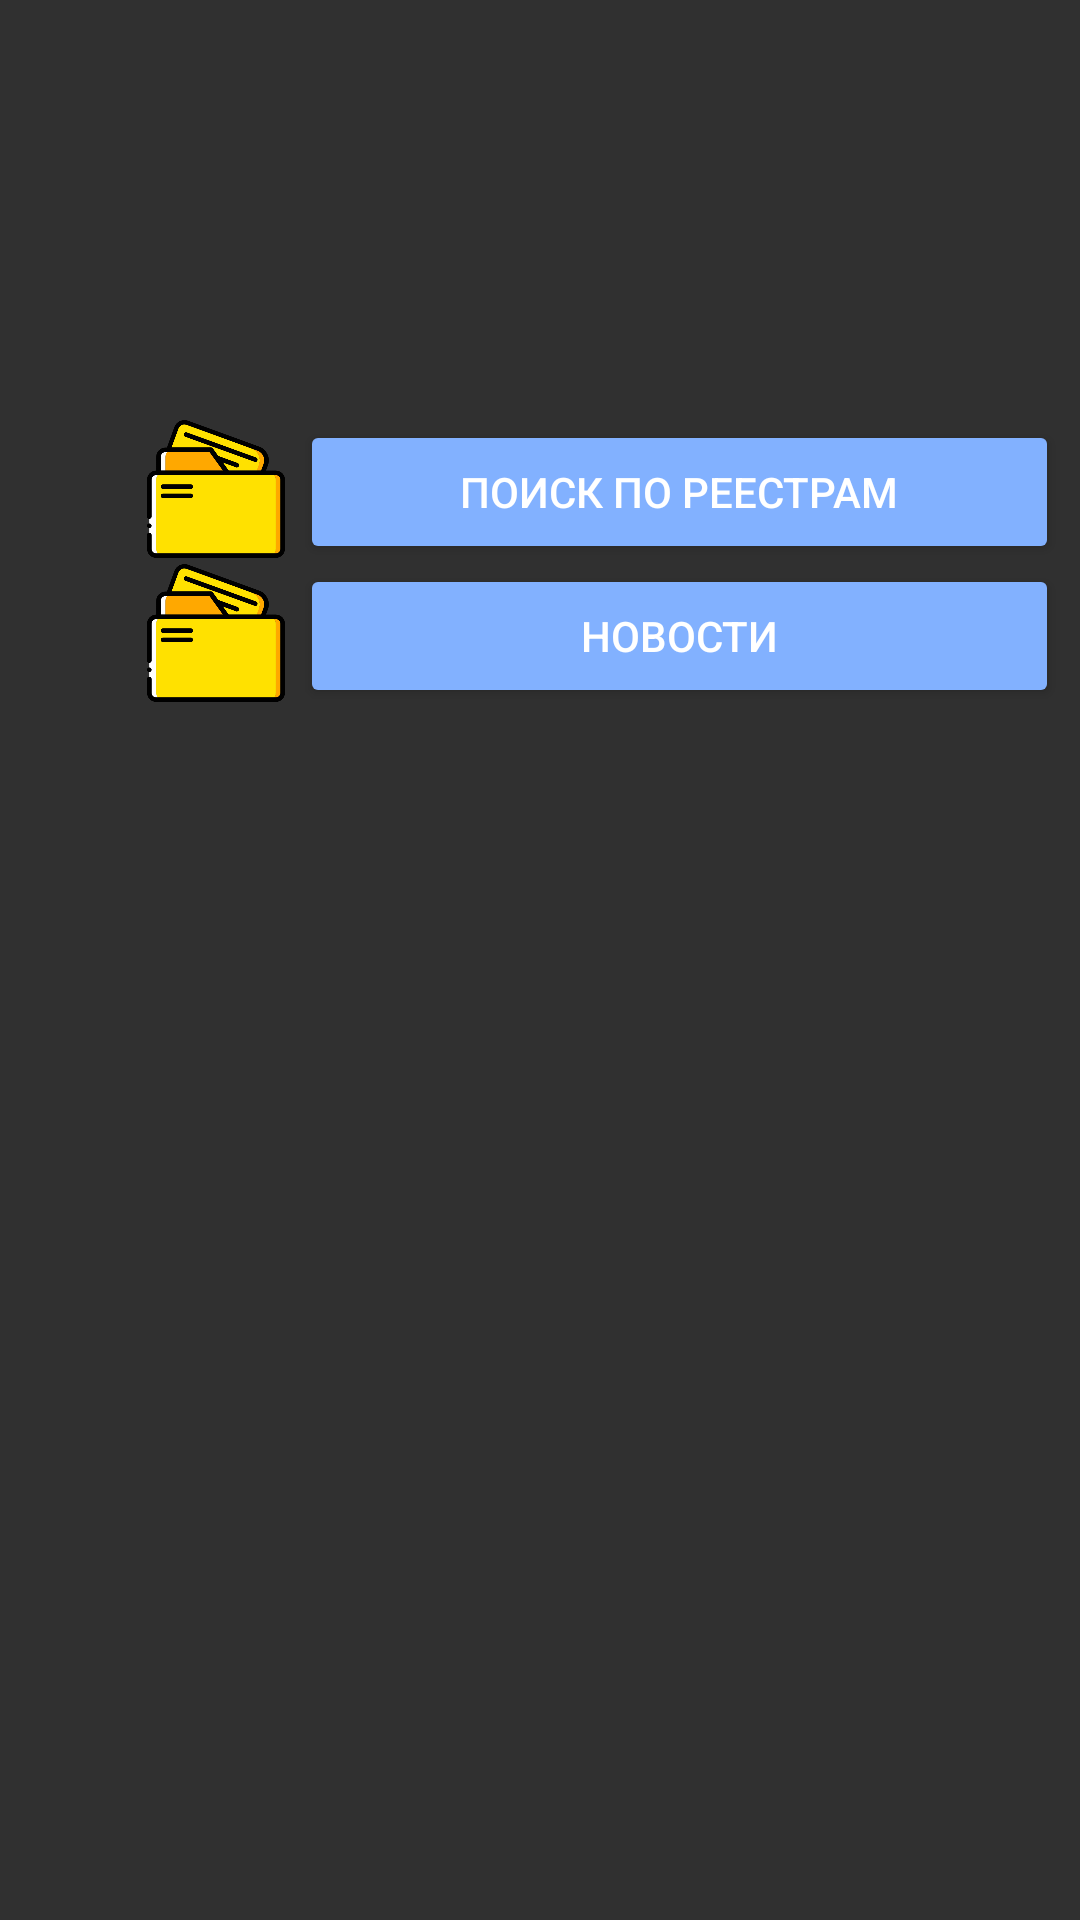

Icon bounding boxes for this 1080px×1920px phone screenshot, format (x1, y1, x2, y2):
files: (147, 420, 285, 558), (147, 564, 285, 702)
